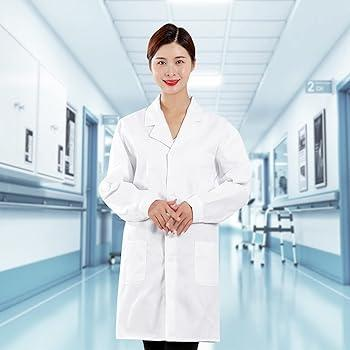Bata-Correcta: (100, 23, 250, 349)
